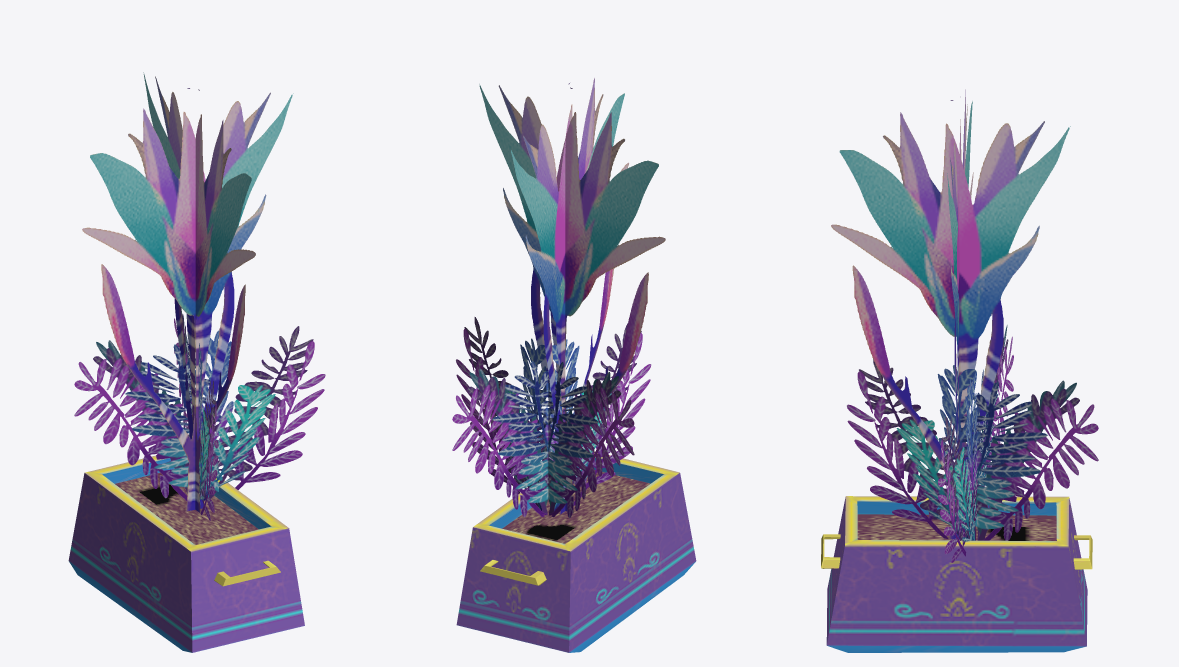
Rendered from Structure_Vapor_Pot_02_Art.fbx.
The picture shows the model from 3 angles, left to right: view 1: azimuth 30°, elevation 25°; view 2: azimuth 150°, elevation 25°; view 3: azimuth 270°, elevation 25°; orthographic projection. The views are drawn at different scales.
Visible parts, largest first — view 1: Structure_Vapor_Pot_02_Art, Structure_Vapor_Pot_02_Art1; view 2: Structure_Vapor_Pot_02_Art, Structure_Vapor_Pot_02_Art1; view 3: Structure_Vapor_Pot_02_Art, Structure_Vapor_Pot_02_Art1.
Boxes of the visible parts, <box> form: Structure_Vapor_Pot_02_Art: <box>68,74,325,652</box>; Structure_Vapor_Pot_02_Art1: <box>75,74,322,514</box>; Structure_Vapor_Pot_02_Art: <box>452,78,696,652</box>; Structure_Vapor_Pot_02_Art1: <box>453,80,664,516</box>; Structure_Vapor_Pot_02_Art: <box>821,89,1098,652</box>; Structure_Vapor_Pot_02_Art1: <box>831,99,1098,562</box>.
Size of the model in its own units: 209 by 299 by 210.
